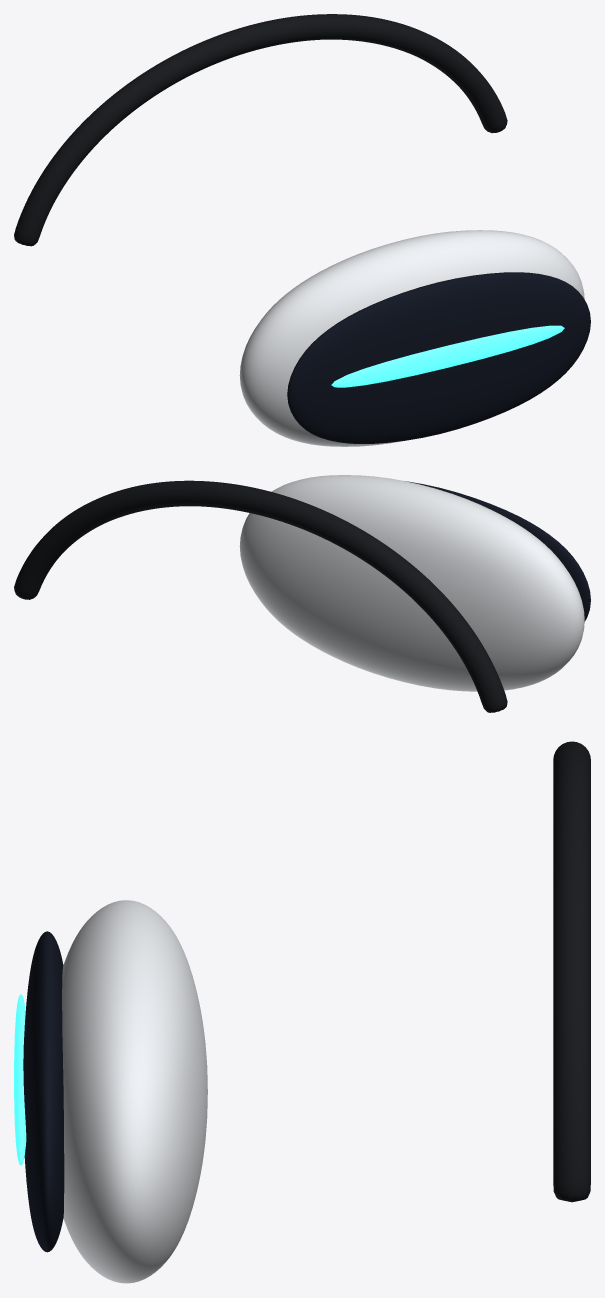
The model's file is vr_headset.glb.
3 renders of one model, top to bottom at view 1: azimuth 30°, elevation 25°; view 2: azimuth 150°, elevation 25°; view 3: azimuth 270°, elevation 25°, orthographic. The views are drawn at different scales.
Visible parts, largest first — view 1: ACC_vr_visor, ACC_vr_body, ACC_vr_strap, ACC_vr_strip; view 2: ACC_vr_body, ACC_vr_strap, ACC_vr_visor; view 3: ACC_vr_body, ACC_vr_strap, ACC_vr_visor, ACC_vr_strip.
Part boxes in pixels (left/top/right/bottom): ACC_vr_visor: left=287, top=272, right=590, bottom=443; ACC_vr_body: left=239, top=230, right=584, bottom=446; ACC_vr_strap: left=14, top=14, right=507, bottom=246; ACC_vr_strip: left=331, top=325, right=564, bottom=387; ACC_vr_body: left=239, top=475, right=584, bottom=691; ACC_vr_strap: left=14, top=480, right=507, bottom=712; ACC_vr_visor: left=405, top=481, right=590, bottom=621; ACC_vr_body: left=62, top=900, right=207, bottom=1283; ACC_vr_strap: left=553, top=741, right=590, bottom=1202; ACC_vr_visor: left=23, top=931, right=64, bottom=1252; ACC_vr_strip: left=14, top=994, right=26, bottom=1165.
Size of the model in its own units: 1.26 by 0.7399 by 0.8763.
